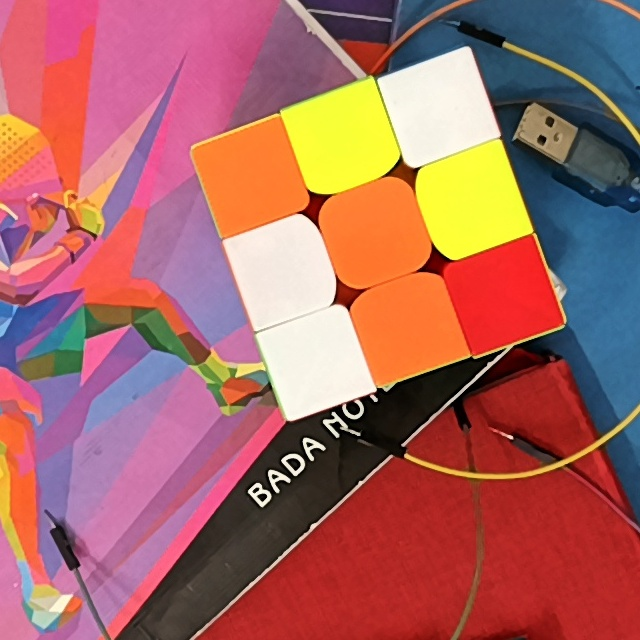tile: (335, 197, 413, 268), (464, 262, 542, 330), (368, 292, 445, 359), (247, 236, 320, 306), (214, 143, 288, 212), (303, 106, 378, 174), (437, 169, 510, 238), (401, 74, 474, 141), (282, 327, 353, 392)
